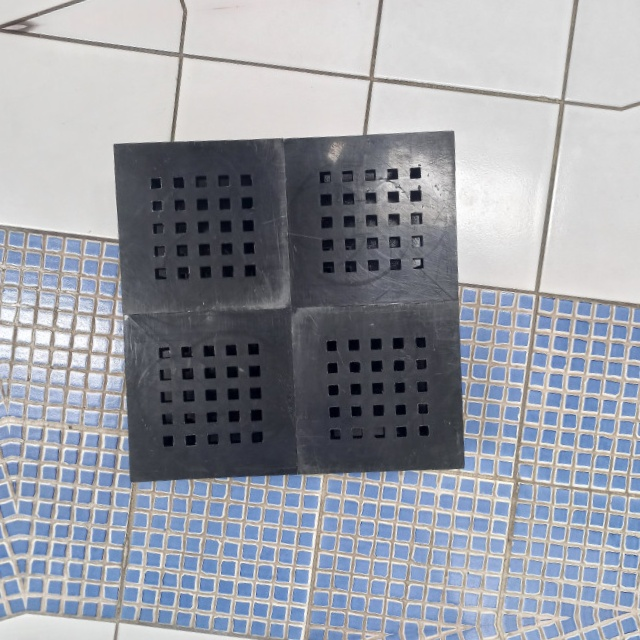pallet: (109, 125, 470, 486)
